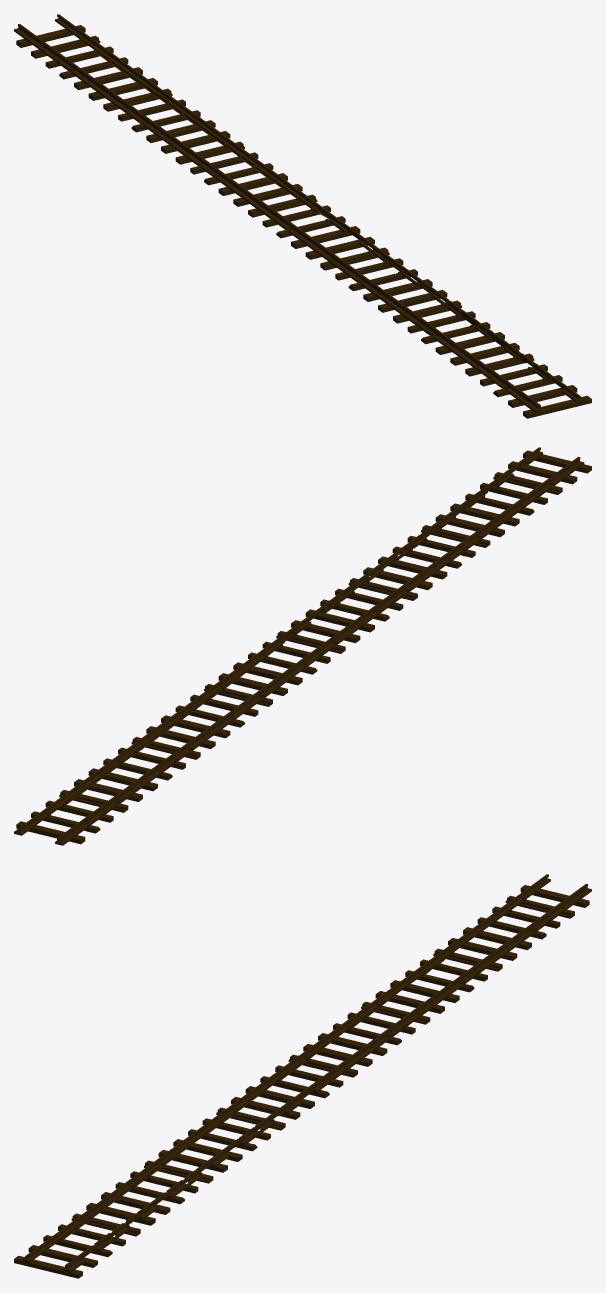
File: Tracks.fbx
The picture shows the model from 3 angles, top to bottom: view 1: azimuth 30°, elevation 25°; view 2: azimuth 150°, elevation 25°; view 3: azimuth 330°, elevation 25°; orthographic projection.
Visible parts, largest first — view 1: Track.001, Track; view 2: Track.001, Track; view 3: Track.001, Track.
Part boxes in pixels (x1,y1,x2,y2): Track.001: [14, 14, 590, 414]; Track: [16, 25, 591, 418]; Track.001: [14, 447, 591, 845]; Track: [16, 451, 591, 844]; Track.001: [16, 874, 591, 1273]; Track: [14, 885, 589, 1278].
Bounding box in the file's own units: 248 × 37.53 × 3460.
